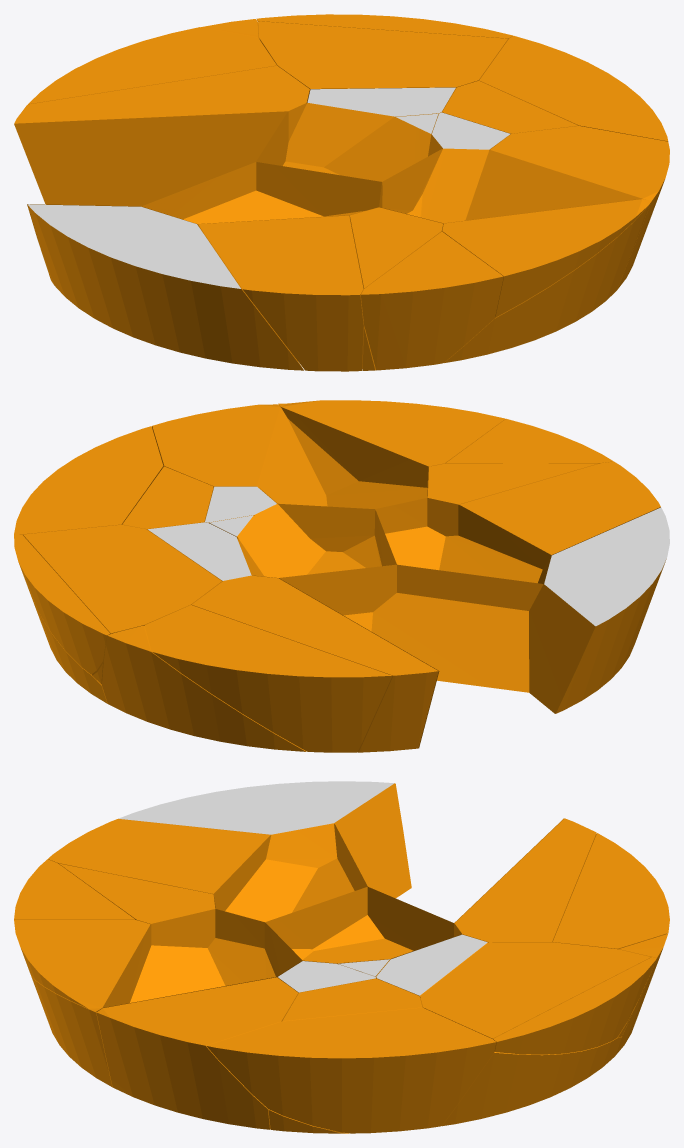
The model's file is Board_Orange_F 1.dae.
The picture shows the model from 3 angles, top to bottom: view 1: azimuth 30°, elevation 25°; view 2: azimuth 150°, elevation 25°; view 3: azimuth 270°, elevation 25°; orthographic projection.
Parts seen in each view (by area): view 1: Board_Orange_cell.026, Board_Orange_cell.023, Board_Orange_cell.022, Board_Orange_cell.003, Board_Orange_cell.020, Board_Orange_cell.017, Board_Orange_cell.015, Board_Orange_cell.002, Board_Orange_cell.014, Board_Orange_cell.004, Board_Orange_cell.012, Board_Orange_cell.005 (+8 smaller); view 2: Board_Orange_cell.023, Board_Orange_cell.005, Board_Orange_cell.012, Board_Orange_cell.026, Board_Orange_cell.020, Board_Orange_cell.017, Board_Orange_cell.022, Board_Orange_cell.011, Board_Orange_cell.002, Board_Orange_cell.014, Board_Orange_cell.004, Board_Orange_cell.015 (+8 smaller); view 3: Board_Orange_cell.014, Board_Orange_cell.024, Board_Orange_cell.020, Board_Orange_cell.017, Board_Orange_cell.022, Board_Orange_cell.002, Board_Orange_cell.004, Board_Orange_cell.012, Board_Orange_cell.026, Board_Orange_cell.005, Board_Orange_cell.015, Board_Orange_cell.016 (+9 smaller).
Boxes of the visible parts, x1,y1,x2,y2 form: Board_Orange_cell.026: (27, 204, 303, 370); Board_Orange_cell.023: (14, 111, 287, 234); Board_Orange_cell.022: (198, 215, 363, 371); Board_Orange_cell.003: (361, 231, 503, 370); Board_Orange_cell.020: (258, 21, 508, 89); Board_Orange_cell.017: (379, 149, 641, 224); Board_Orange_cell.015: (442, 199, 651, 317); Board_Orange_cell.002: (142, 162, 381, 229); Board_Orange_cell.014: (479, 35, 668, 141); Board_Orange_cell.004: (257, 103, 442, 184); Board_Orange_cell.012: (14, 65, 309, 123); Board_Orange_cell.005: (28, 27, 276, 104); Board_Orange_cell.023: (279, 565, 594, 747); Board_Orange_cell.005: (145, 605, 392, 752); Board_Orange_cell.012: (191, 575, 438, 752); Board_Orange_cell.026: (543, 507, 669, 713); Board_Orange_cell.020: (23, 524, 221, 684); Board_Orange_cell.017: (258, 407, 428, 510); Board_Orange_cell.022: (459, 461, 660, 555); Board_Orange_cell.011: (102, 625, 306, 751); Board_Orange_cell.002: (375, 498, 551, 584); Board_Orange_cell.014: (14, 426, 163, 534); Board_Orange_cell.004: (237, 504, 396, 578); Board_Orange_cell.015: (278, 400, 505, 479); Board_Orange_cell.014: (206, 1007, 496, 1133); Board_Orange_cell.024: (96, 977, 298, 1129); Board_Orange_cell.020: (420, 942, 651, 1038); Board_Orange_cell.017: (103, 909, 301, 1007); Board_Orange_cell.022: (48, 819, 270, 898); Board_Orange_cell.002: (214, 823, 367, 922); Board_Orange_cell.004: (265, 887, 461, 963); Board_Orange_cell.012: (454, 818, 596, 942); Board_Orange_cell.026: (118, 781, 394, 834); Board_Orange_cell.005: (553, 833, 669, 949); Board_Orange_cell.015: (14, 920, 150, 1011); Board_Orange_cell.016: (493, 957, 656, 1054).
Bounding box in the file's own units: 2 × 2 × 0.3.
